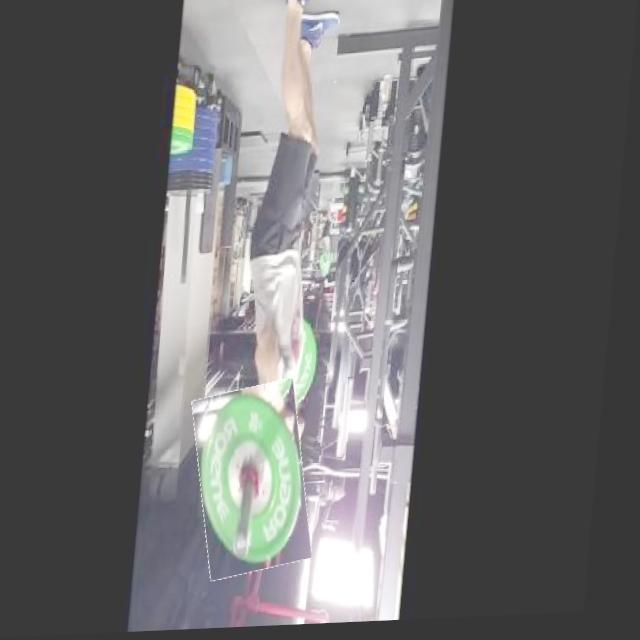barbell: (196, 385, 328, 581)
